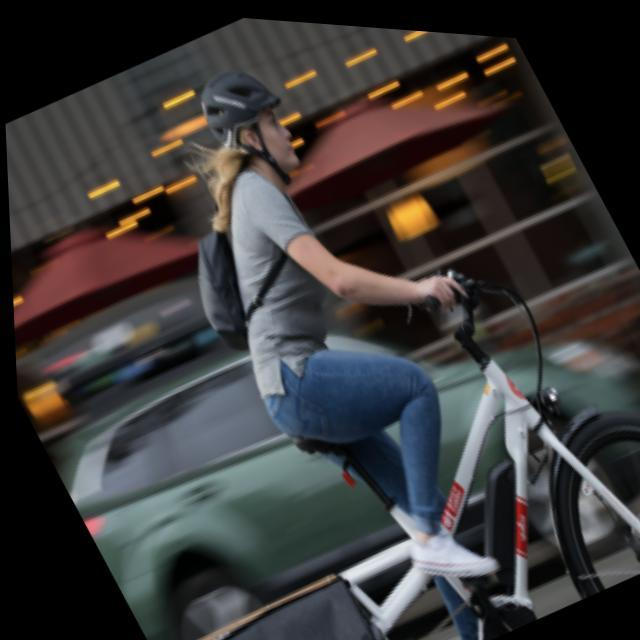Helmet: (196, 56, 306, 183)
